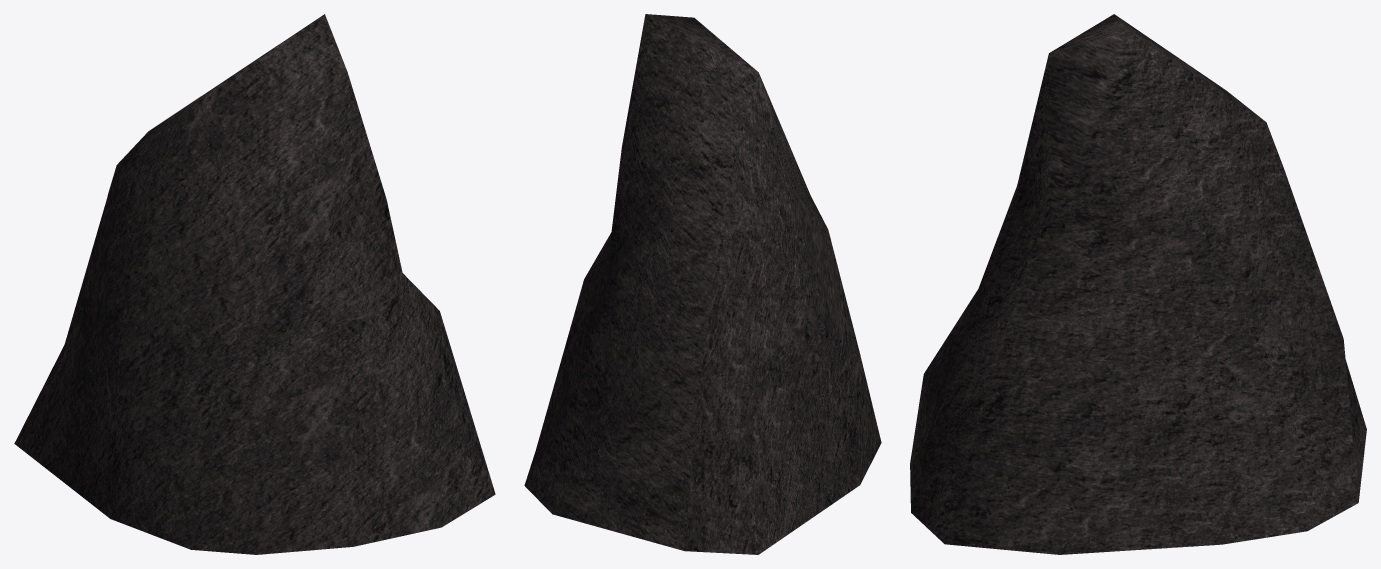
File: rock01.fbx
The picture shows the model from 3 angles, left to right: view 1: azimuth 30°, elevation 25°; view 2: azimuth 150°, elevation 25°; view 3: azimuth 270°, elevation 25°; orthographic projection. The views are drawn at different scales.
Parts seen in each view (by area): view 1: Cube; view 2: Cube; view 3: Cube.
Part boxes in pixels (x1,y1,x2,y2): Cube: (14,14,495,554); Cube: (524,14,881,554); Cube: (910,14,1366,554).
Size of the model in its own units: 1.97 by 2.51 by 2.17.
